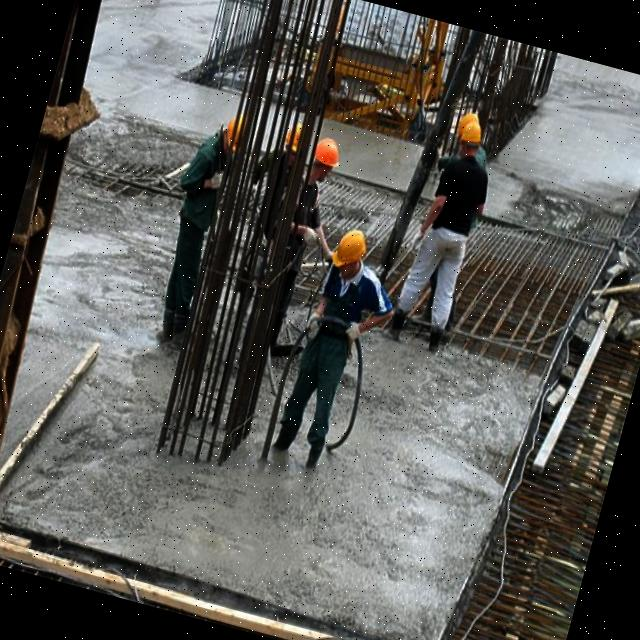Helmet: (331, 226, 373, 274), (220, 114, 249, 156), (312, 138, 346, 172), (458, 123, 487, 150), (284, 124, 307, 156)
NoJacket: (309, 262, 379, 363), (429, 152, 490, 248), (180, 138, 235, 238), (285, 182, 327, 272)
